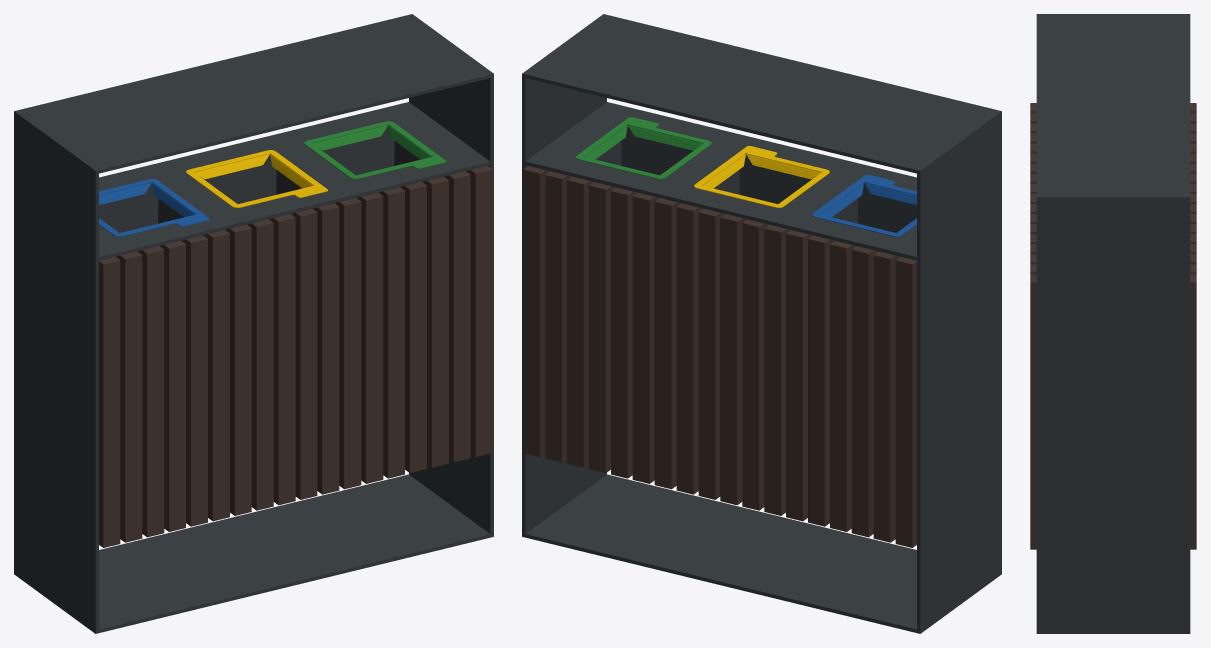
3 renders of one model, left to right at view 1: azimuth 30°, elevation 25°; view 2: azimuth 150°, elevation 25°; view 3: azimuth 270°, elevation 25°, orthographic. The views are drawn at different scales.
Parts seen in each view (by area): view 1: K3_R900; view 2: K3_R900; view 3: K3_R900.
Part boxes in pixels (x1=…): K3_R900: x1=14, y1=14, x2=493, y2=633; K3_R900: x1=522, y1=14, x2=1001, y2=633; K3_R900: x1=1030, y1=14, x2=1196, y2=633.
Bounding box in the file's own units: 0.9 × 1 × 0.345.
